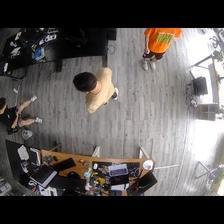normal: (74, 67, 119, 112), (141, 26, 182, 72), (1, 96, 45, 131)
